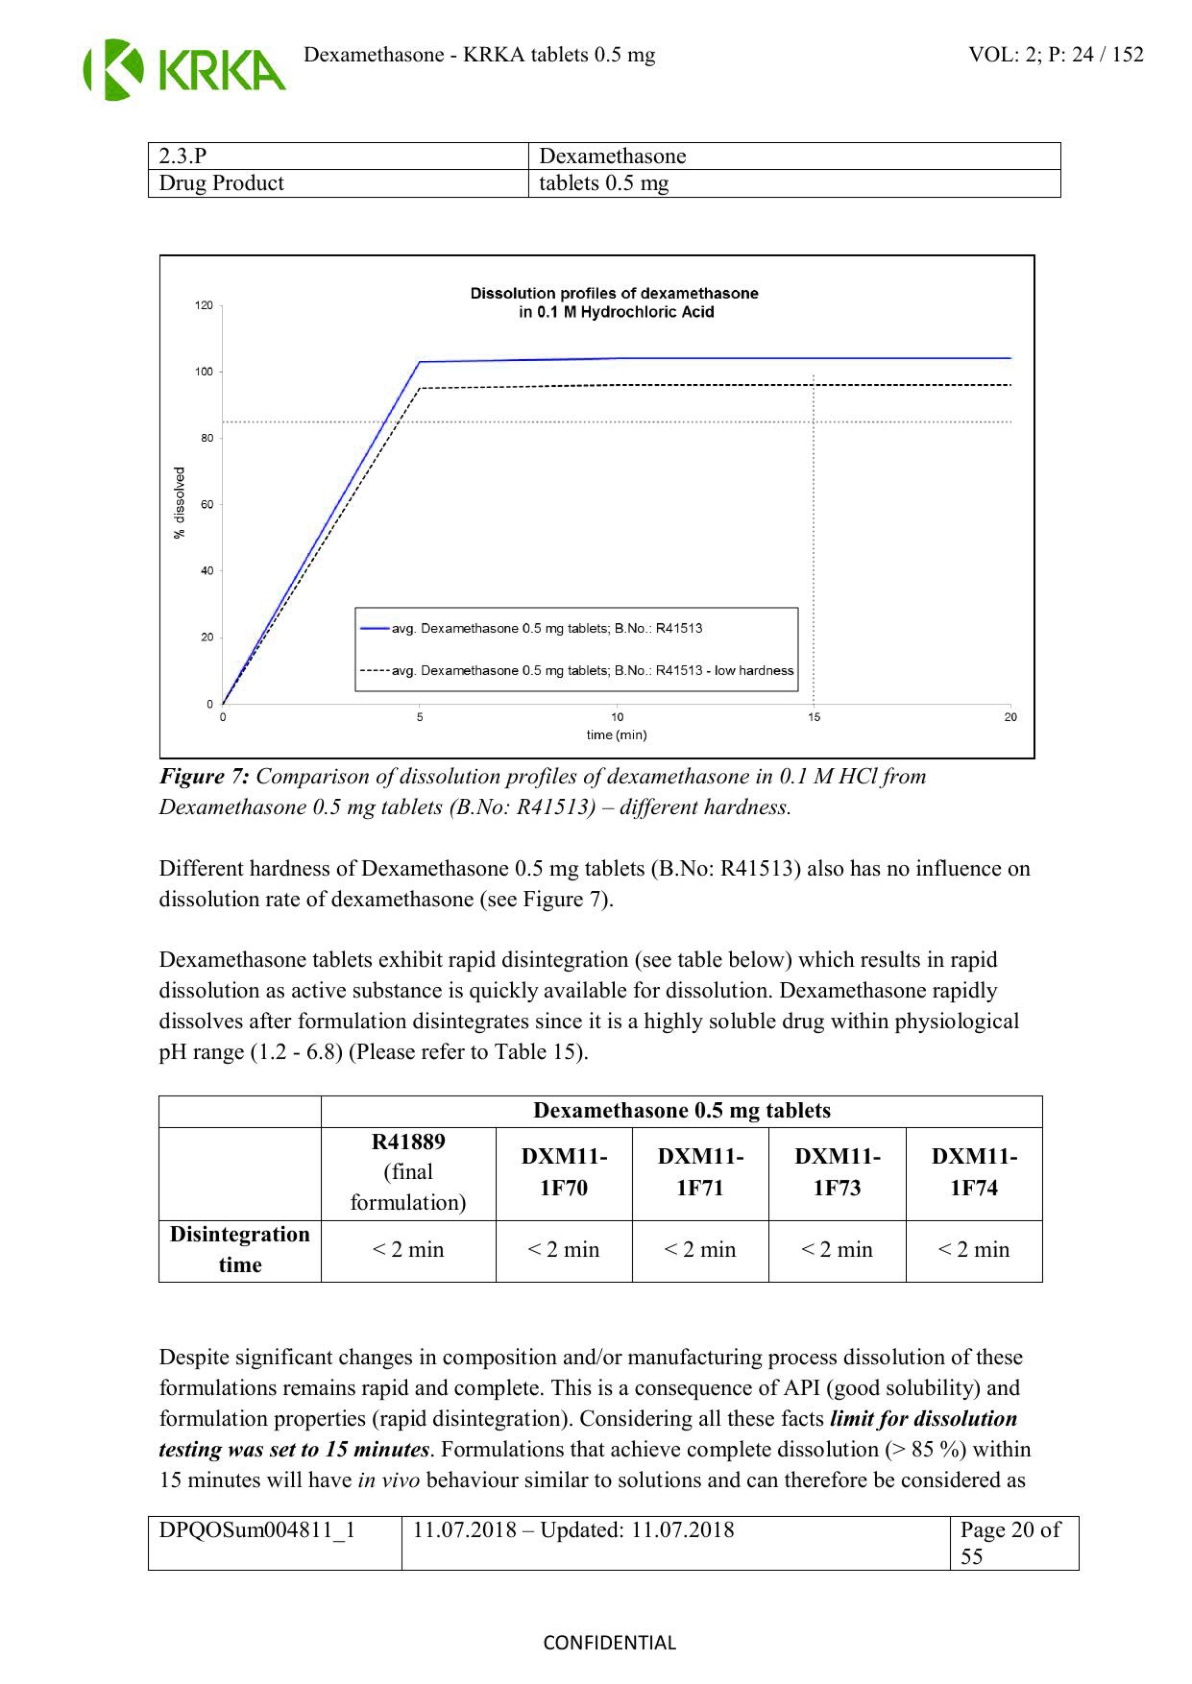full_lined: (147, 141, 1062, 199), (147, 1515, 1081, 1572)
merged_cells: (157, 1095, 1042, 1283)
